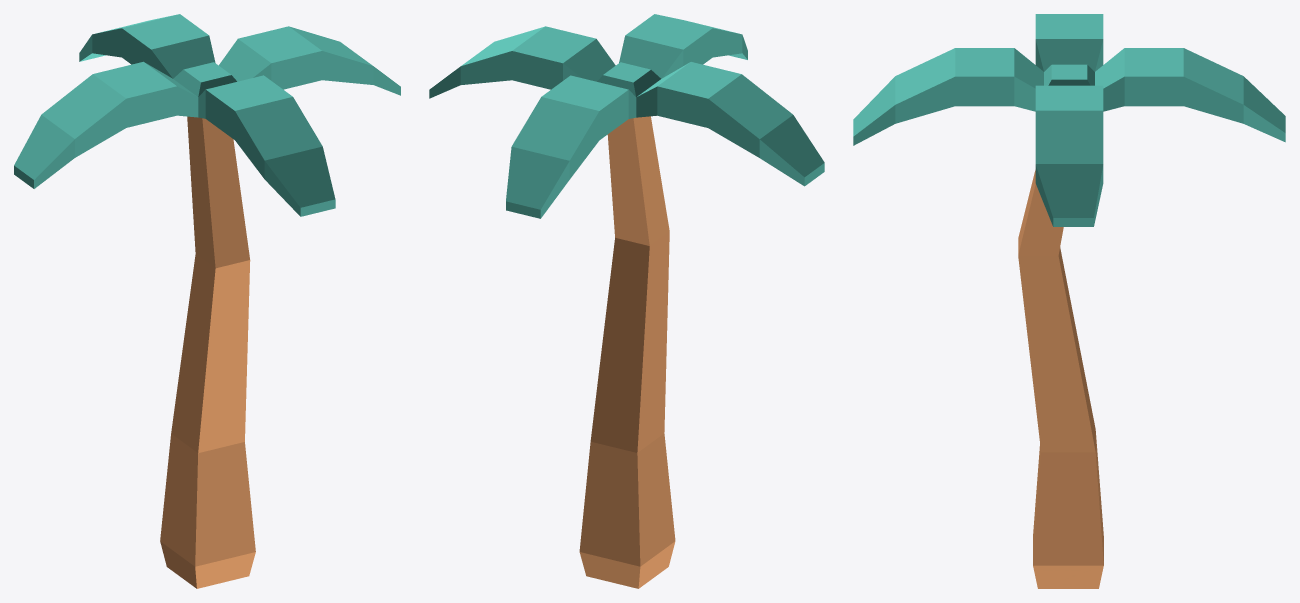
The model's file is palm_large.obj.
The picture shows the model from 3 angles, left to right: view 1: azimuth 30°, elevation 25°; view 2: azimuth 150°, elevation 25°; view 3: azimuth 270°, elevation 25°; orthographic projection.
Parts seen in each view (by area): view 1: Group 142, Group 140; view 2: Group 142, Group 140; view 3: Group 142, Group 140.
Boxes of the visible parts, bbox=[...] form: Group 142: bbox=[14, 14, 400, 216]; Group 140: bbox=[160, 116, 255, 588]; Group 142: bbox=[429, 14, 824, 218]; Group 140: bbox=[579, 116, 675, 588]; Group 142: bbox=[853, 14, 1285, 226]; Group 140: bbox=[1018, 170, 1103, 588].
Size of the model in its own units: 7.72 by 10.12 by 7.72.
